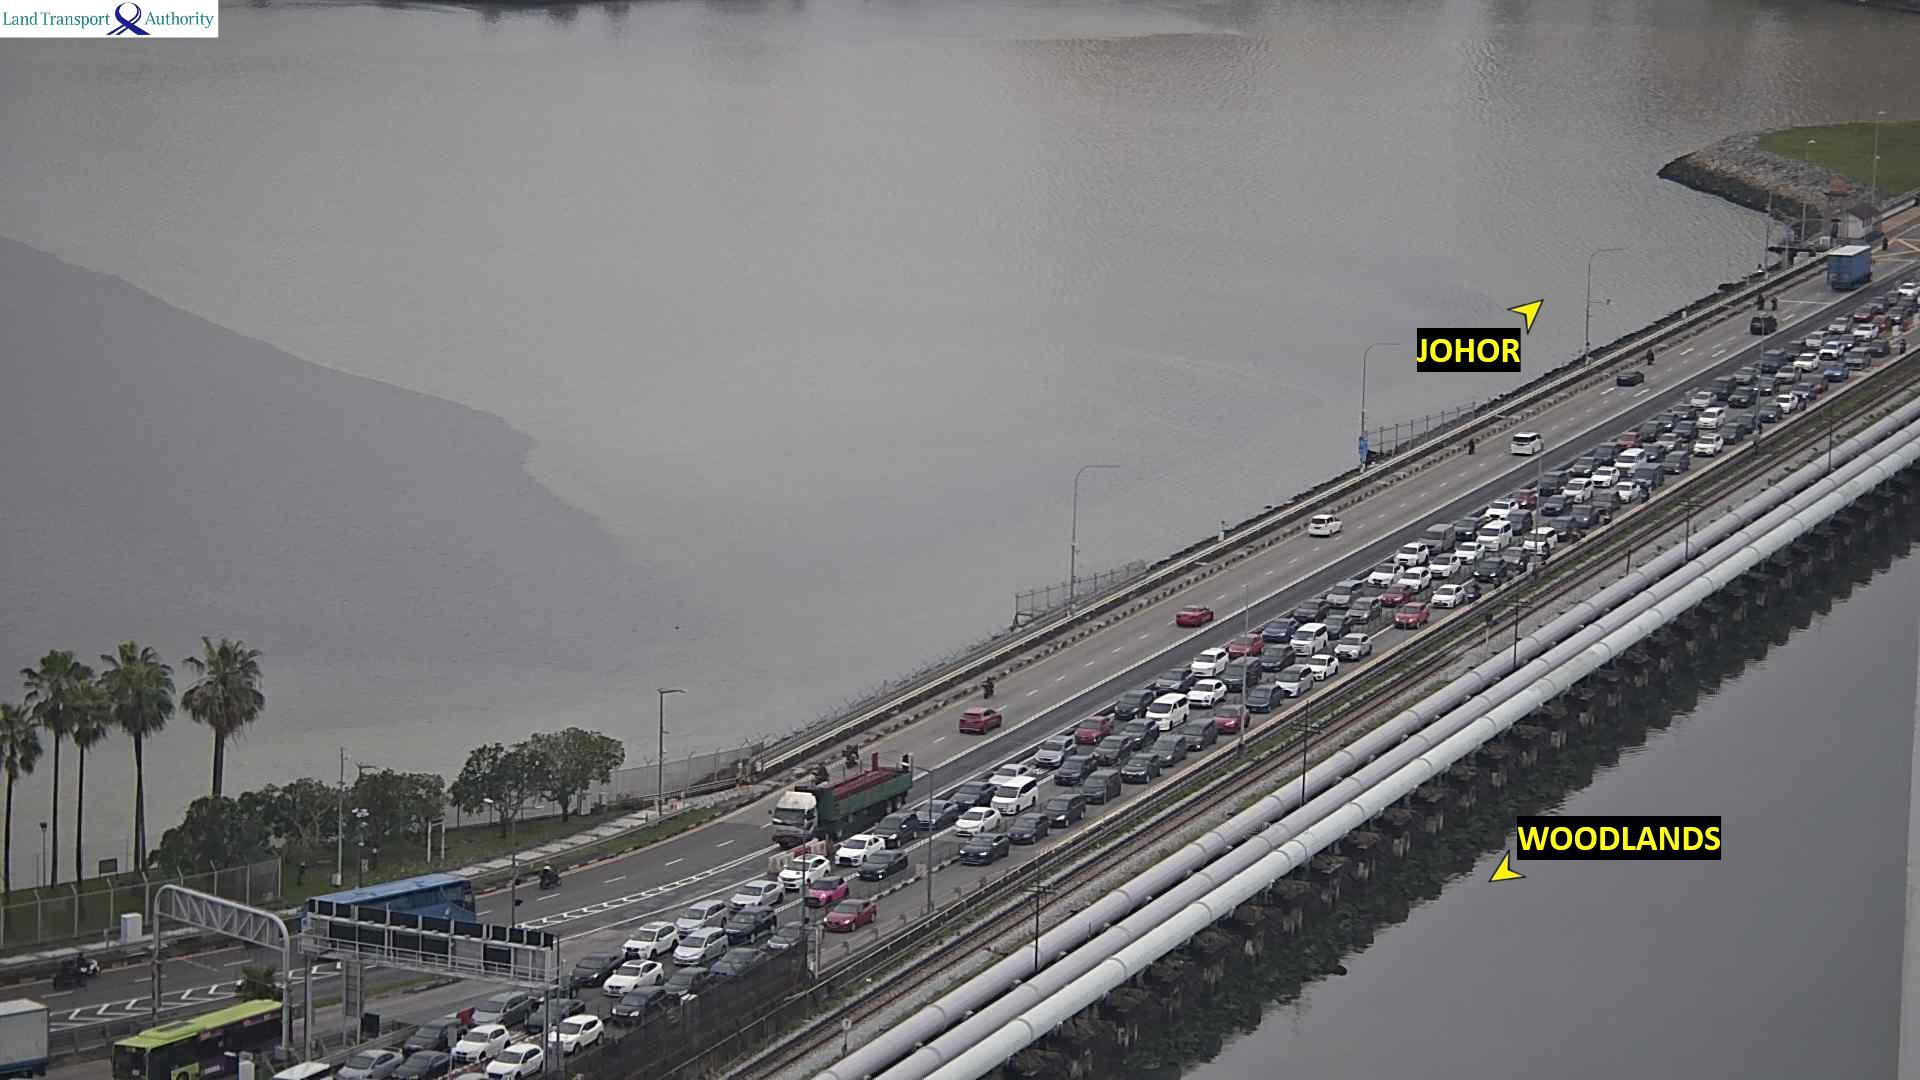vehicle-causeway-johor: (306, 878, 476, 948), (1827, 245, 1871, 291), (960, 708, 1003, 733), (1310, 516, 1348, 540), (56, 960, 86, 988), (1173, 608, 1216, 627), (1512, 431, 1544, 455), (540, 861, 561, 887), (78, 953, 100, 974), (1751, 315, 1776, 332), (1617, 371, 1644, 385), (845, 742, 858, 767), (811, 761, 827, 781), (982, 676, 994, 697), (1468, 437, 1475, 453), (1648, 349, 1654, 364), (1771, 297, 1778, 309), (1758, 294, 1763, 310)
vehicle-causeway-singapore: (112, 1003, 290, 1079), (775, 768, 911, 841), (0, 1005, 52, 1080), (508, 1000, 589, 1033), (624, 924, 704, 956), (446, 1029, 516, 1062), (674, 933, 734, 965), (723, 881, 791, 909), (408, 1013, 460, 1049), (541, 1016, 600, 1047), (485, 1049, 548, 1078), (472, 989, 524, 1024), (384, 1053, 453, 1079), (781, 863, 844, 890), (851, 854, 909, 883), (605, 962, 663, 991), (709, 948, 766, 977), (834, 836, 891, 865), (1088, 739, 1150, 765), (824, 900, 879, 929), (908, 802, 967, 829), (614, 989, 665, 1019), (340, 1053, 399, 1077), (953, 836, 1005, 863), (573, 953, 617, 984), (808, 878, 856, 906), (729, 910, 778, 937), (951, 811, 1001, 837), (667, 967, 707, 999), (1390, 541, 1441, 566), (1035, 734, 1075, 765), (992, 773, 1045, 796), (1050, 761, 1102, 784), (271, 1060, 329, 1080), (1224, 657, 1260, 689), (1142, 698, 1188, 722), (1422, 560, 1470, 582), (1076, 777, 1123, 799), (1431, 587, 1480, 608), (1291, 624, 1326, 653), (1184, 688, 1229, 710), (947, 782, 990, 805), (1479, 521, 1513, 550), (1334, 633, 1373, 658), (1469, 565, 1517, 585), (1006, 822, 1051, 843), (1192, 648, 1225, 676), (1296, 660, 1346, 678), (1327, 581, 1363, 606), (989, 765, 1031, 786), (1039, 808, 1083, 828), (1156, 669, 1191, 694), (1423, 524, 1454, 552), (993, 796, 1044, 813), (1117, 691, 1151, 716), (1368, 563, 1403, 587), (1183, 719, 1214, 746), (1260, 620, 1301, 640), (1339, 606, 1384, 624), (1248, 687, 1280, 712), (1153, 735, 1186, 759), (1275, 673, 1318, 691), (1077, 717, 1109, 741), (1614, 449, 1647, 472), (1295, 598, 1326, 622), (1486, 496, 1517, 520), (1389, 608, 1430, 626), (1526, 527, 1555, 552), (1757, 352, 1797, 370), (1841, 348, 1873, 370), (1230, 634, 1263, 655), (1451, 516, 1483, 537), (1662, 451, 1690, 475), (1379, 586, 1414, 605), (1262, 646, 1292, 668), (1564, 504, 1598, 523), (1785, 359, 1825, 375), (1537, 474, 1567, 495), (1212, 715, 1249, 731), (1798, 339, 1836, 354), (1634, 463, 1661, 484), (1541, 497, 1576, 513), (1565, 479, 1593, 499), (1548, 517, 1573, 539), (1696, 413, 1728, 430), (1505, 510, 1530, 531), (1611, 482, 1640, 500), (1690, 444, 1727, 458), (1592, 491, 1619, 510), (1821, 366, 1851, 383), (1405, 567, 1431, 586), (1458, 543, 1484, 562), (1724, 395, 1758, 409), (1591, 468, 1616, 487), (1594, 446, 1620, 464), (1733, 416, 1759, 434), (1800, 378, 1827, 395), (1655, 434, 1681, 451), (1753, 403, 1779, 420), (1850, 325, 1876, 342), (1733, 367, 1758, 384), (1691, 391, 1715, 408), (1711, 377, 1734, 394), (1718, 424, 1742, 440), (1575, 457, 1596, 475), (1822, 341, 1843, 359), (1654, 414, 1678, 429), (1642, 444, 1663, 461), (1640, 422, 1662, 438), (1775, 394, 1798, 409), (1671, 405, 1695, 419), (1805, 332, 1826, 348), (1791, 385, 1813, 400), (1900, 282, 1920, 298), (1674, 423, 1695, 438), (1756, 380, 1777, 395), (1830, 318, 1850, 333), (1866, 340, 1886, 355), (1619, 433, 1639, 447), (1854, 307, 1873, 321), (1865, 299, 1886, 311), (1888, 307, 1903, 323), (1872, 316, 1887, 330)
